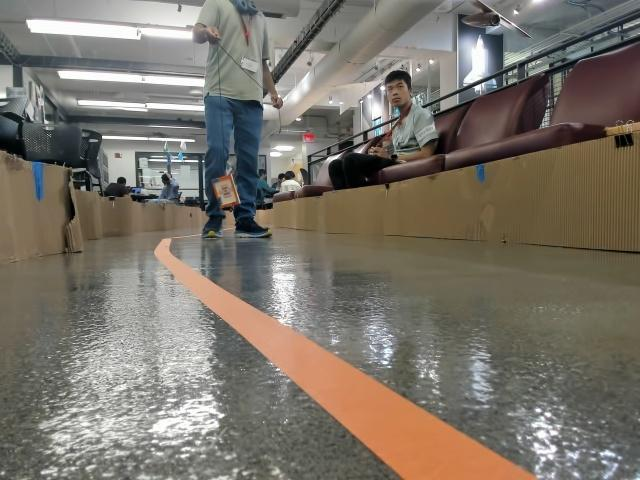Do Not Go Around: (215, 187, 230, 200)
